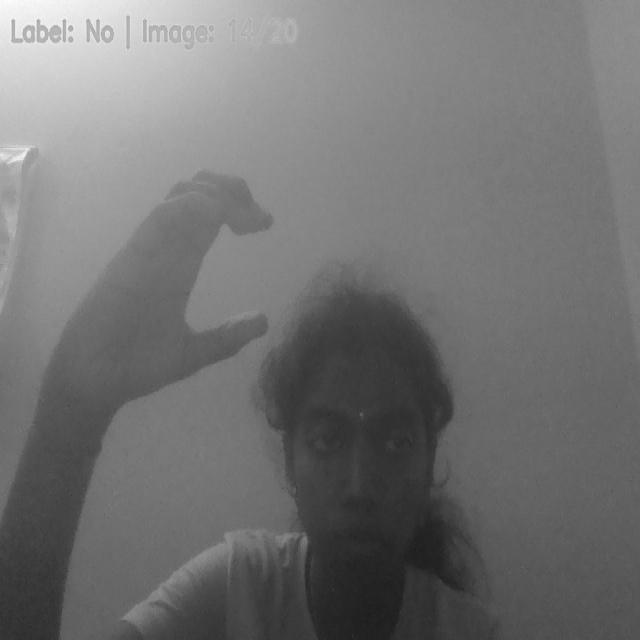No: (24, 151, 278, 426)
